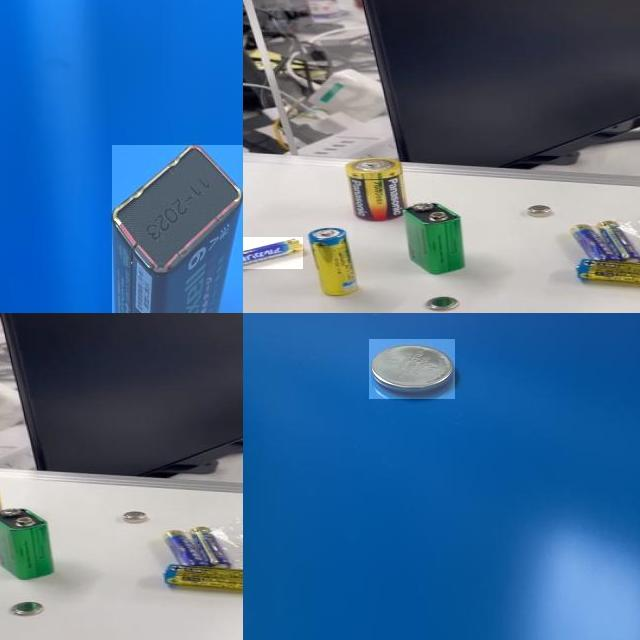9V: (112, 145, 243, 313), (406, 203, 467, 277), (0, 508, 56, 579)
